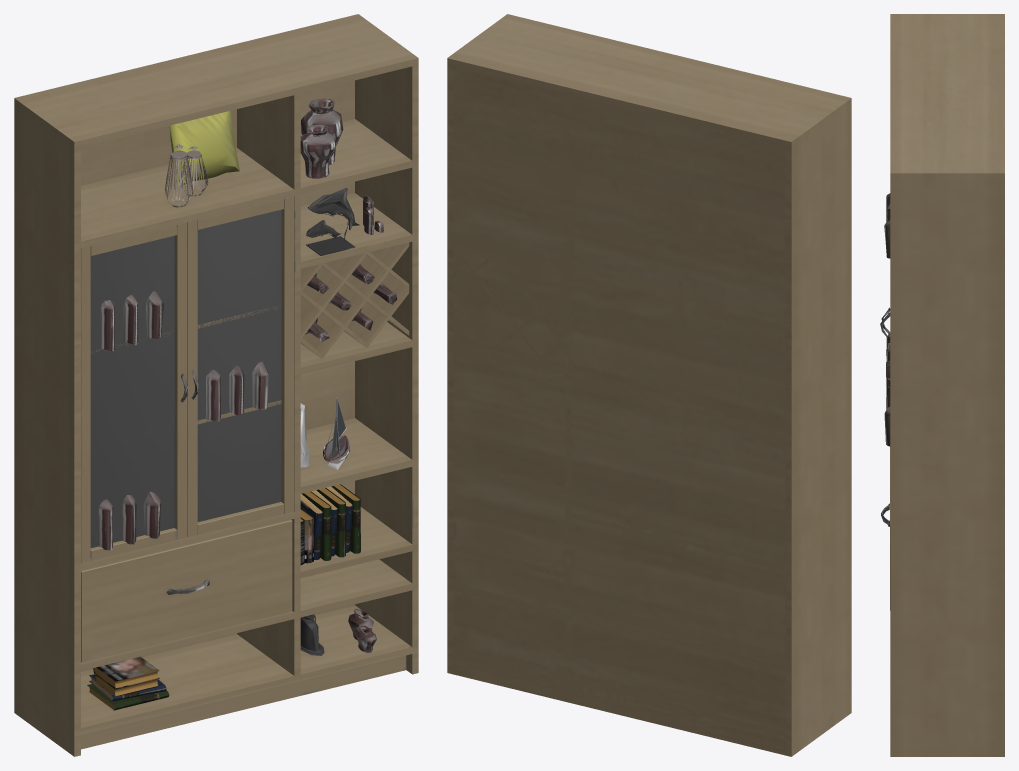
The model's file is cabinet_floor_based_cabinet_785b5d13-7b3d-51dc-8f20-e58d917f7138.glb.
The picture shows the model from 3 angles, left to right: view 1: azimuth 30°, elevation 25°; view 2: azimuth 150°, elevation 25°; view 3: azimuth 270°, elevation 25°; orthographic projection. The views are drawn at different scales.
Visible parts, largest first — view 1: raw_model.obj; view 2: raw_model.obj; view 3: raw_model.obj.
Boxes of the visible parts, x1=… form: raw_model.obj: x1=14, y1=14, x2=418, y2=756; raw_model.obj: x1=447, y1=14, x2=851, y2=756; raw_model.obj: x1=880, y1=14, x2=1004, y2=756.
Bounding box in the file's own units: 1.03 × 1.76 × 0.3409.
Materials: 1 (1 with a texture image).
